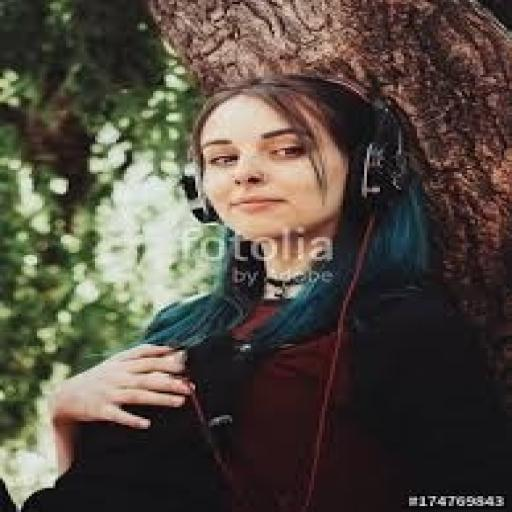listening_to_music: (0, 69, 509, 510)
